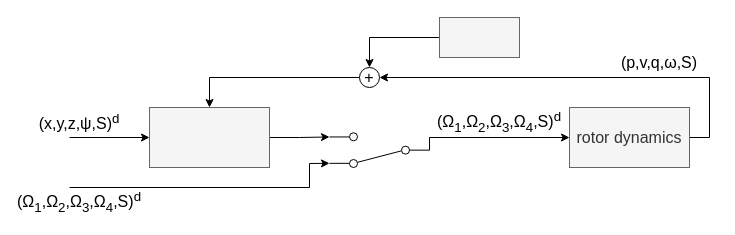
The diagram is 735 pixels wide and 235 high, and some of its shapes have lost their labels. The shapes that lost their labels are listed below. From the top down, each one's centre as x and y in pixels, then its label:
[479,37]: noise
[209,137]: controller
